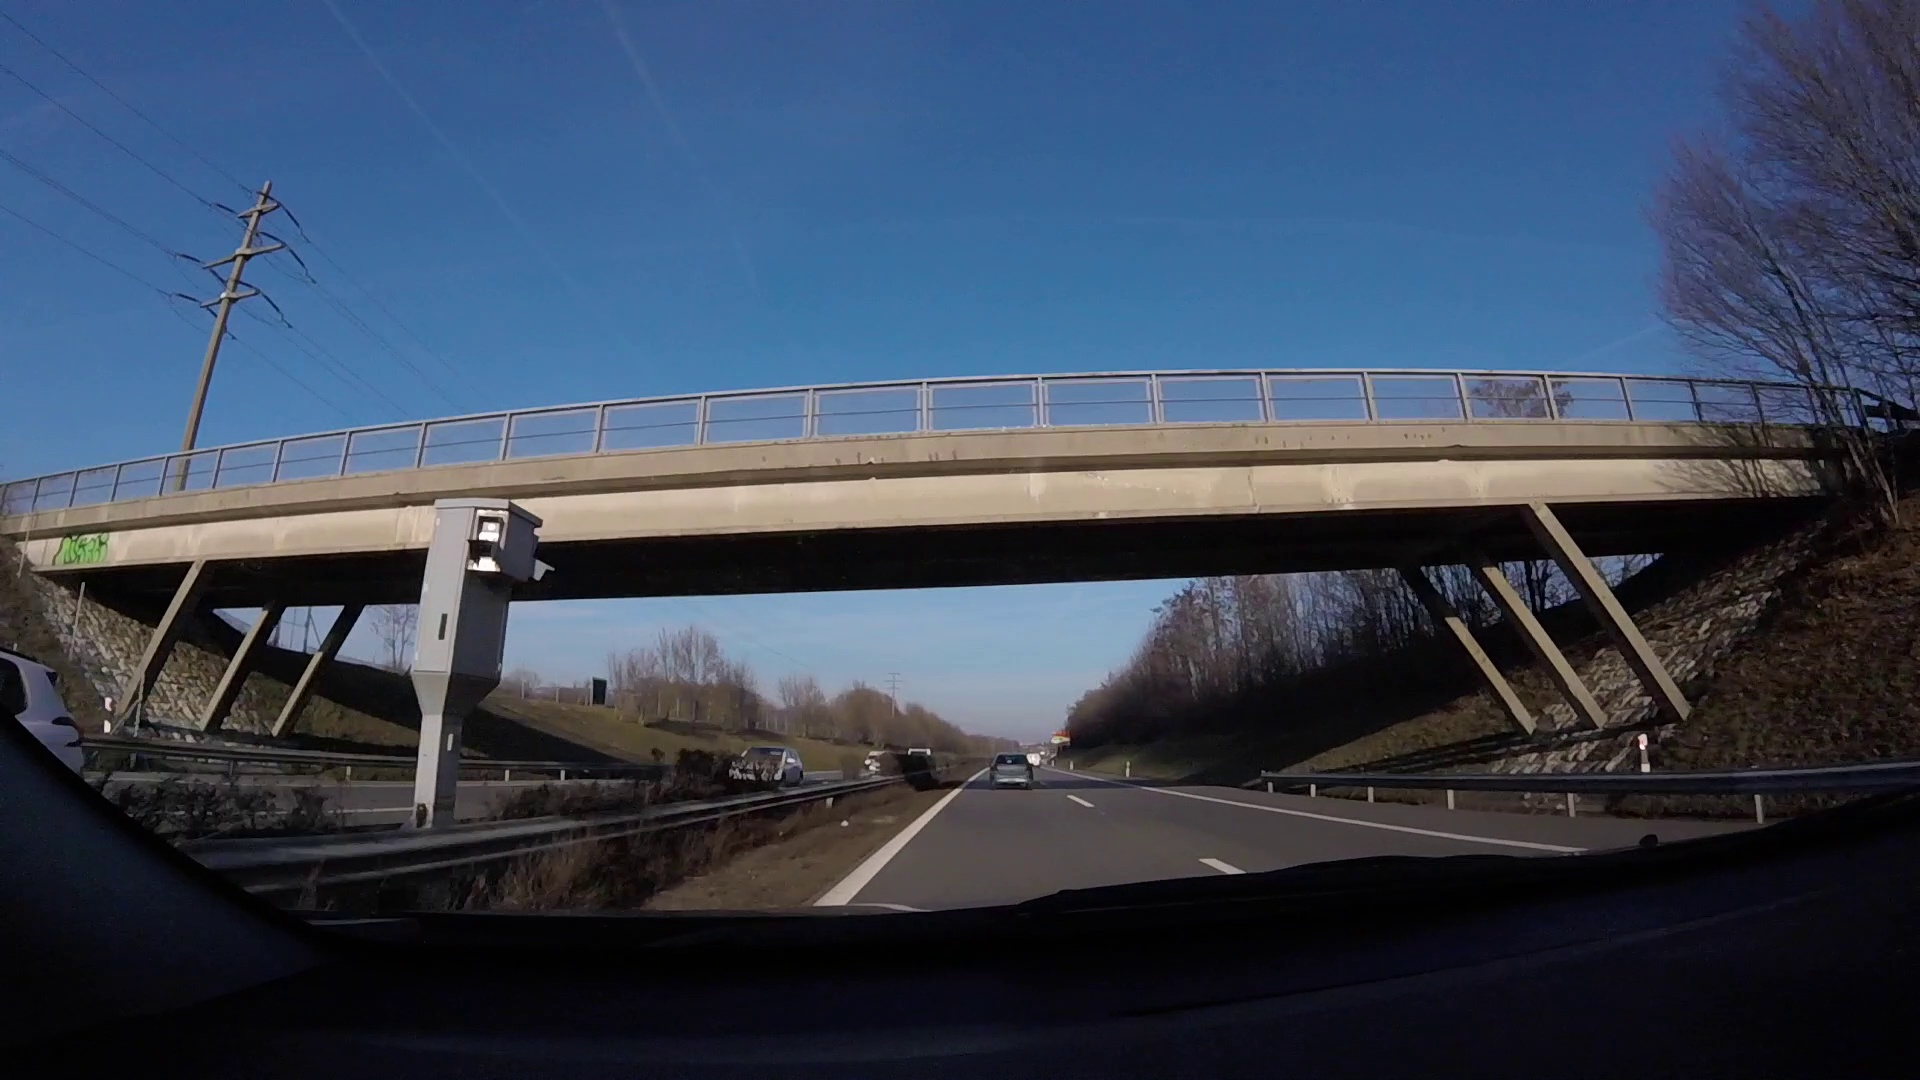radar: (410, 495, 546, 829)
